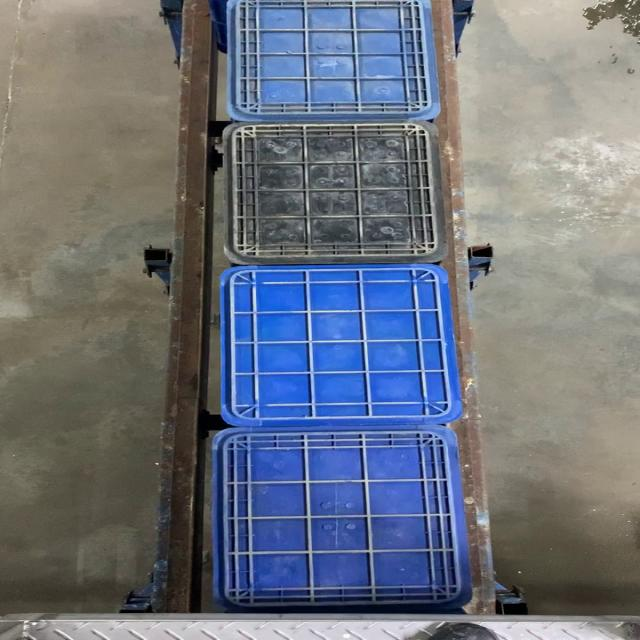Box: (210, 425, 474, 611), (218, 263, 466, 422), (220, 122, 448, 264), (222, 1, 446, 120)
